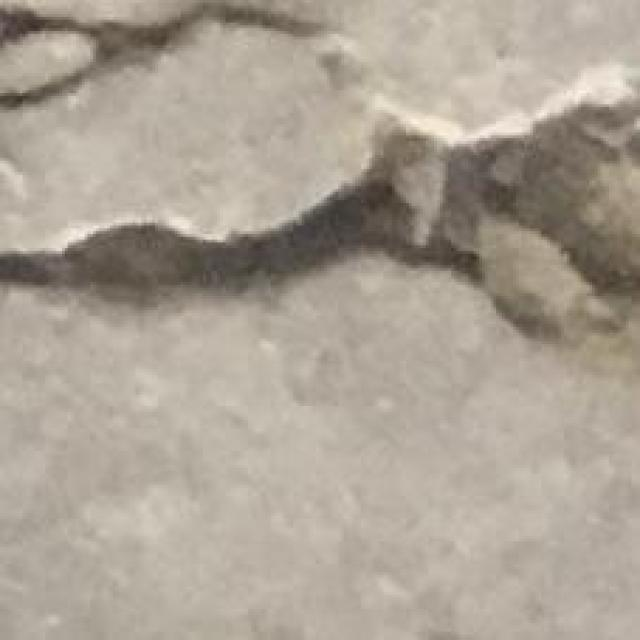branched cracks: (0, 3, 639, 337)
